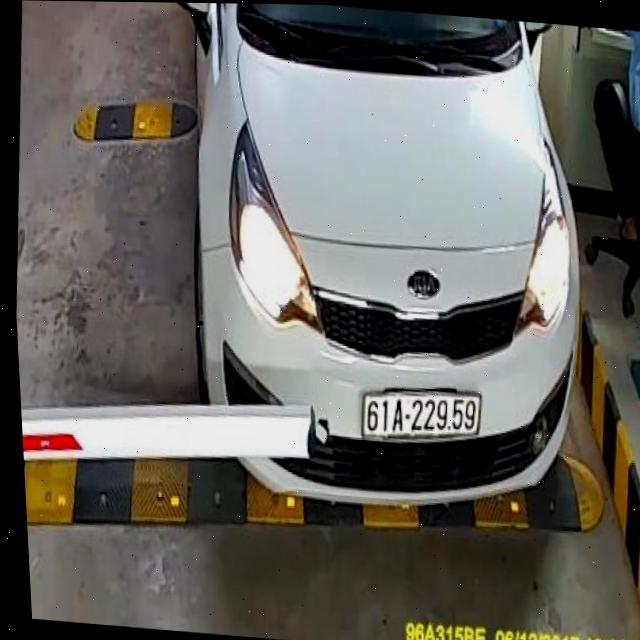car: (121, 2, 625, 528)
plate: (356, 381, 488, 451)
